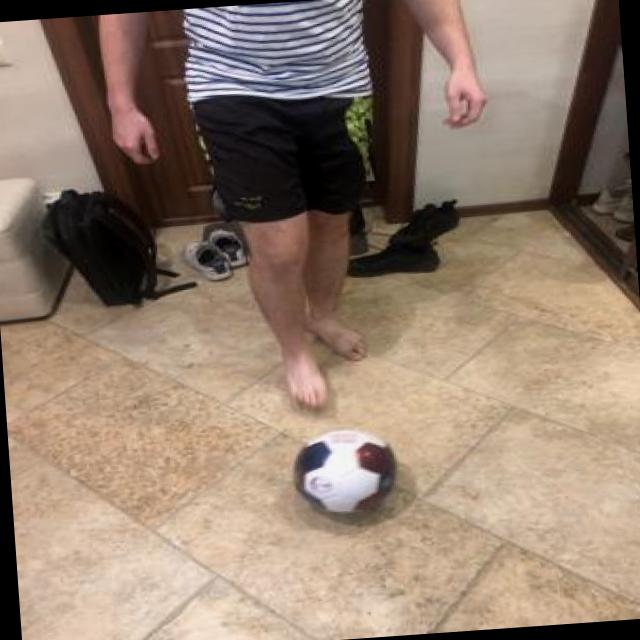Soccer Ball: (289, 422, 404, 519)
